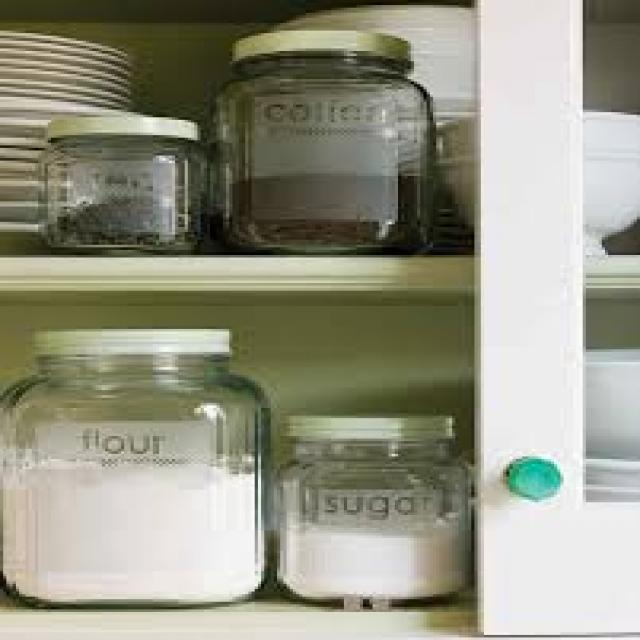organic waste: (3, 451, 258, 597), (280, 510, 465, 599), (220, 168, 423, 240), (45, 191, 194, 240)
